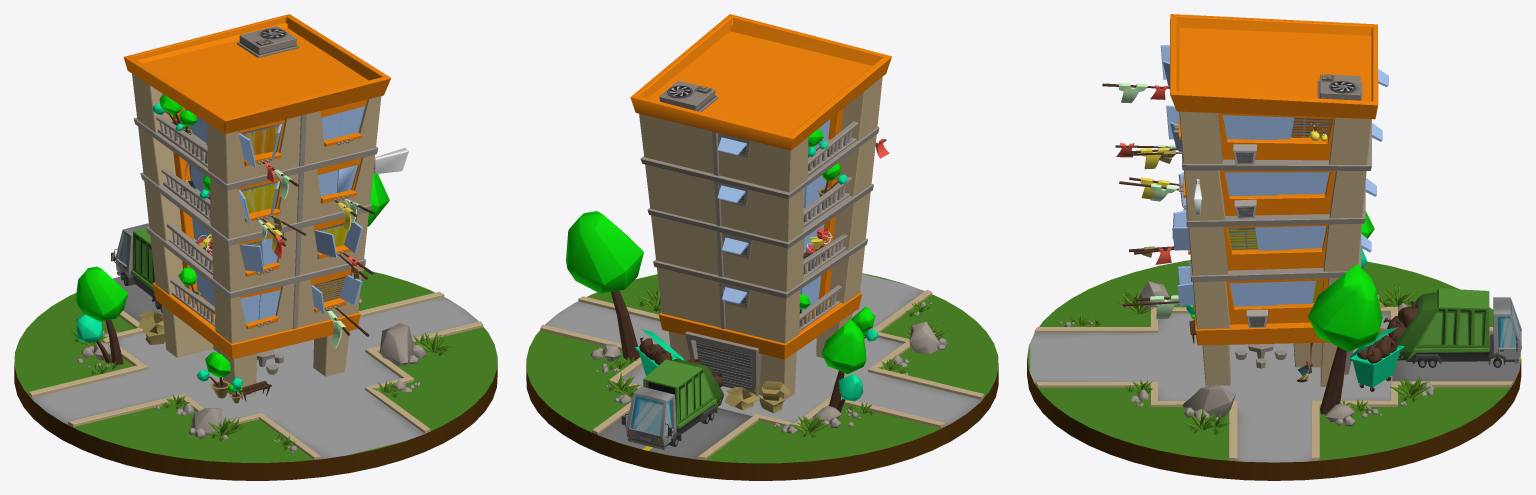
Rendered from Downtown_Dengue.gltf.
3 renders of one model, left to right at view 1: azimuth 30°, elevation 25°; view 2: azimuth 150°, elevation 25°; view 3: azimuth 270°, elevation 25°, orthographic. The views are drawn at different scales.
Visible parts, largest first — view 1: Building, Ground, Curb, Tree (×3), Windows BG, Rocks, Rubbish Truck, Plants, Potted plant, Block Number; view 2: Building, Ground, Tree (×3), Rubbish Truck, Curb, Windows BG, Rocks, Plants, Truck Windows, Carton Box, Potted plant; view 3: Building, Ground, Rubbish Truck, Tree, Curb, Rocks, Windows BG, Plants, Rubbish bin, Truck Windows, Voideck Chairs.
Boxes of the visible parts, x1=… form: Building: x1=123, y1=14, x2=390, y2=396; Ground: x1=14, y1=269, x2=497, y2=480; Curb: x1=29, y1=291, x2=483, y2=459; Tree (×3): x1=75, y1=170, x2=389, y2=364; Windows BG: x1=237, y1=26, x2=347, y2=302; Rocks: x1=77, y1=299, x2=426, y2=453; Rubbish Truck: x1=111, y1=223, x2=162, y2=312; Plants: x1=71, y1=329, x2=450, y2=450; Potted plant: x1=197, y1=352, x2=230, y2=398; Block Number: x1=373, y1=148, x2=408, y2=174; Building: x1=630, y1=14, x2=891, y2=399; Ground: x1=526, y1=273, x2=998, y2=480; Tree (×3): x1=566, y1=211, x2=866, y2=412; Rubbish Truck: x1=621, y1=358, x2=723, y2=450; Curb: x1=540, y1=289, x2=984, y2=459; Windows BG: x1=659, y1=81, x2=751, y2=392; Rocks: x1=590, y1=302, x2=947, y2=433; Plants: x1=605, y1=287, x2=948, y2=437; Truck Windows: x1=630, y1=396, x2=672, y2=435; Carton Box: x1=724, y1=387, x2=759, y2=410; Potted plant: x1=851, y1=306, x2=878, y2=341; Building: x1=1160, y1=14, x2=1388, y2=386; Ground: x1=1027, y1=260, x2=1521, y2=480; Rubbish Truck: x1=1396, y1=288, x2=1521, y2=367; Tree: x1=1308, y1=264, x2=1382, y2=414; Curb: x1=1034, y1=307, x2=1513, y2=460; Rocks: x1=1059, y1=281, x2=1434, y2=426; Windows BG: x1=1228, y1=74, x2=1362, y2=302; Plants: x1=1067, y1=284, x2=1430, y2=434; Rubbish bin: x1=1350, y1=343, x2=1404, y2=391; Truck Windows: x1=1497, y1=304, x2=1520, y2=347; Voideck Chairs: x1=1235, y1=344, x2=1286, y2=368.
Size of the model in its own units: 91.02 by 66.07 by 91.11.
Materials: 17 (4 with a texture image).
